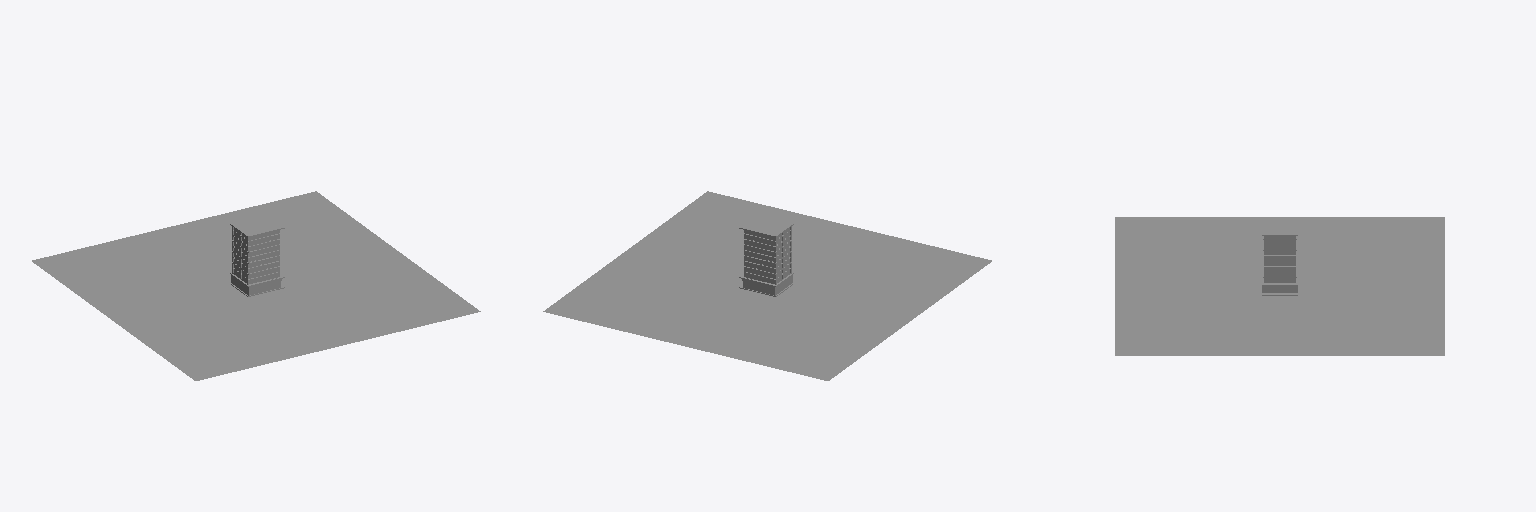
The model's file is Building,.obj.
3 views of the same model, side by side, from view 1: azimuth 30°, elevation 25°; view 2: azimuth 150°, elevation 25°; view 3: azimuth 270°, elevation 25° (orthographic).
Parts seen in each view (by area): view 1: Plane, Cube_Cube.001, Cube.001_Cube.010; view 2: Plane, Cube_Cube.001, Cube.001_Cube.010; view 3: Plane, Cube_Cube.001, Cube.001_Cube.010.
Part boxes in pixels (left/top/right/bottom): Plane: left=32, top=191, right=480, bottom=380; Cube_Cube.001: left=232, top=226, right=279, bottom=284; Cube.001_Cube.010: left=230, top=214, right=284, bottom=236; Plane: left=543, top=191, right=991, bottom=380; Cube_Cube.001: left=744, top=226, right=791, bottom=284; Cube.001_Cube.010: left=739, top=214, right=793, bottom=236; Plane: left=1115, top=217, right=1444, bottom=355; Cube_Cube.001: left=1263, top=236, right=1296, bottom=282; Cube.001_Cube.010: left=1262, top=217, right=1297, bottom=235.
Bounding box in the file's own units: 17.92 × 3.64 × 17.92.